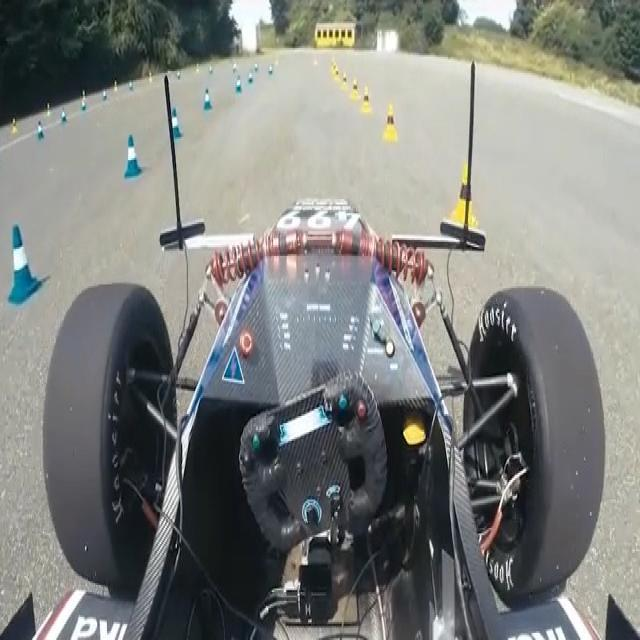blue_cone: (1, 212, 52, 304), (108, 120, 146, 192), (162, 100, 186, 144), (197, 77, 225, 114), (232, 65, 260, 100)
yellow_cone: (432, 143, 486, 231), (376, 79, 404, 140), (356, 70, 372, 124)
